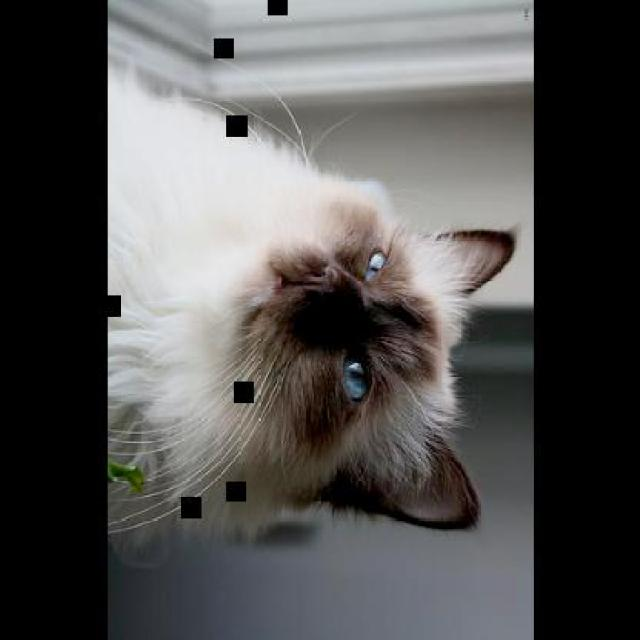unauthorized: (106, 46, 519, 563)
